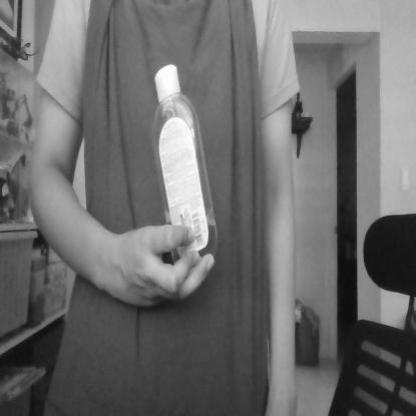Plastic Bottle: (147, 53, 220, 276)
